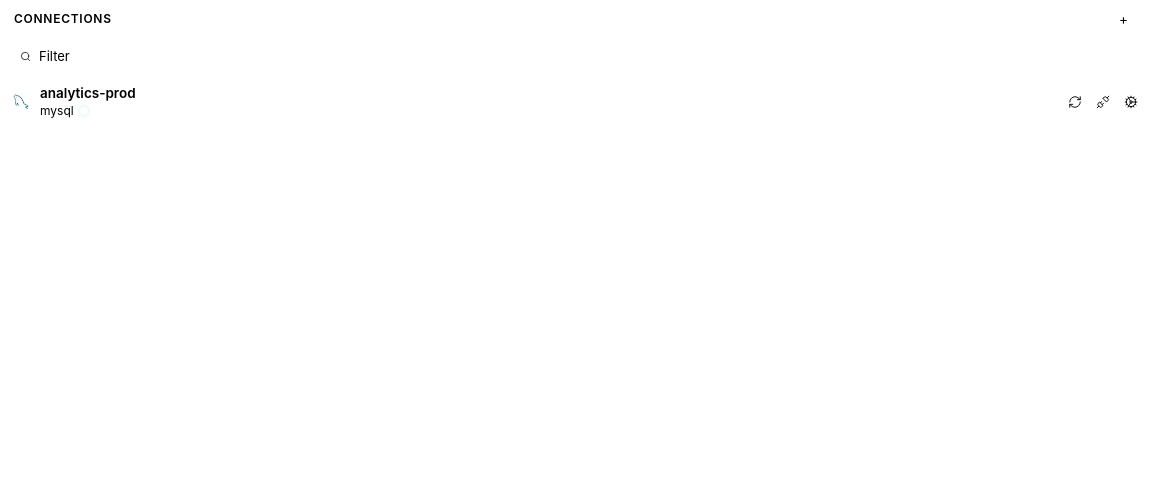
it: CombinedConnectionsTree › groups MySQL database children by metadata object type
The image size is (1152, 504).
Click the button with test id "expand-toggle-c1" at (88, 93), box [0,78,1151,126]
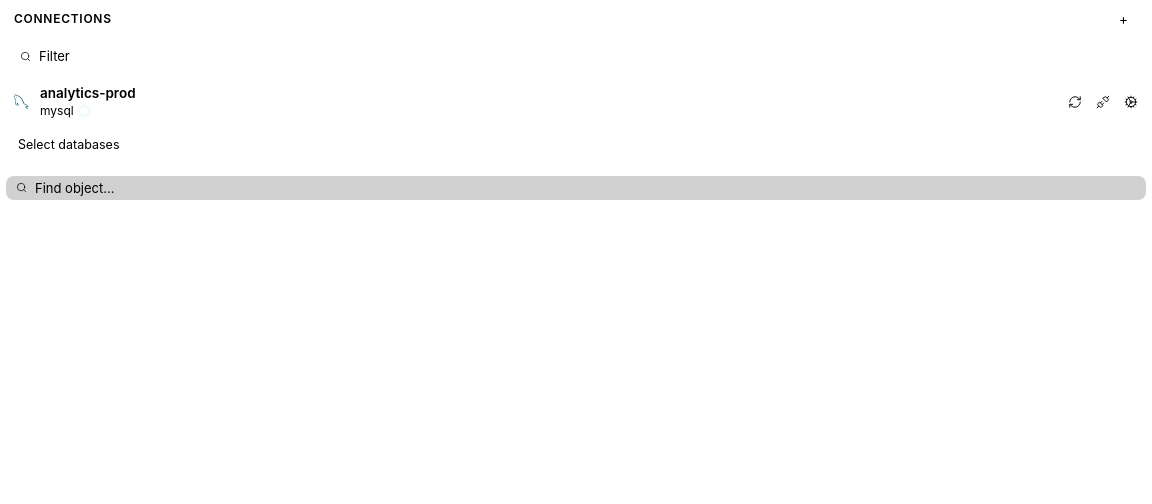
Check: the button with test id "schema-select-c1" is shown
Click the button with test id "schema-select-c1" at (69, 145), box [10,132,1142,160]
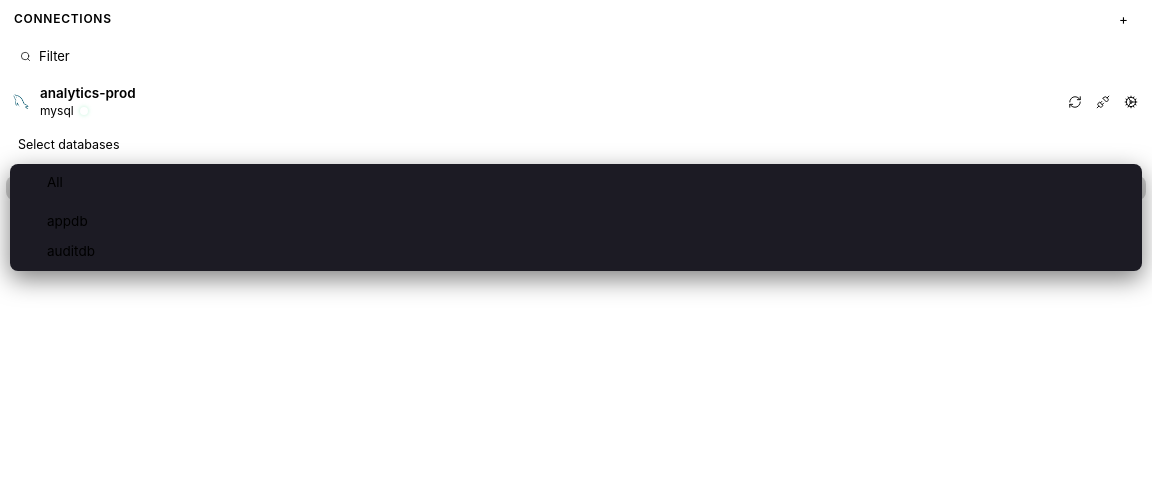
Click the option with test id "multiselect-all" at (55, 182), box [47,174,63,190]
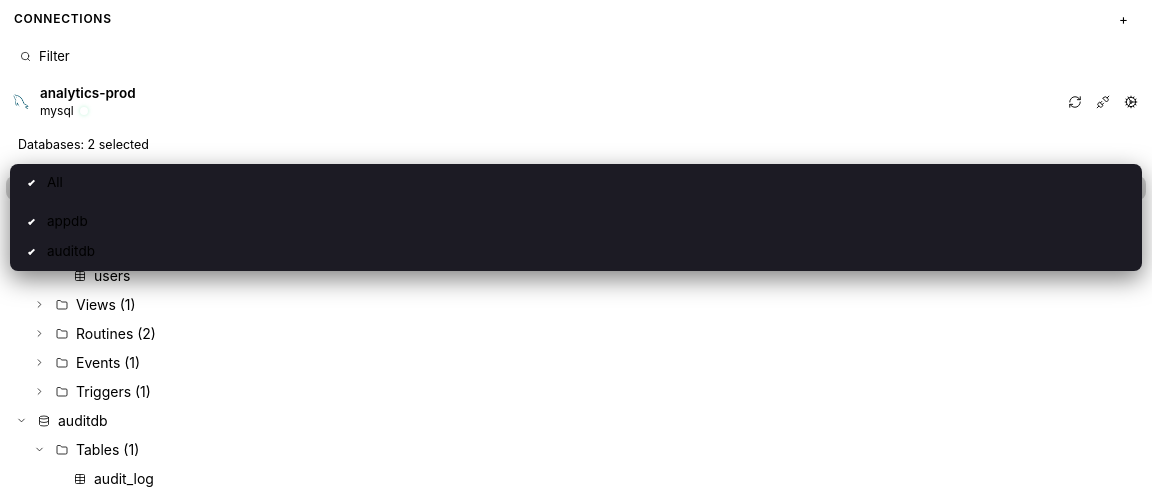
Check: the text "Views (1)" is shown, box [76,295,136,314]
Check: the text "Routines (2)" is shown, box [76,324,156,344]
Check: the text "Events (1)" is shown, box [76,353,140,372]
